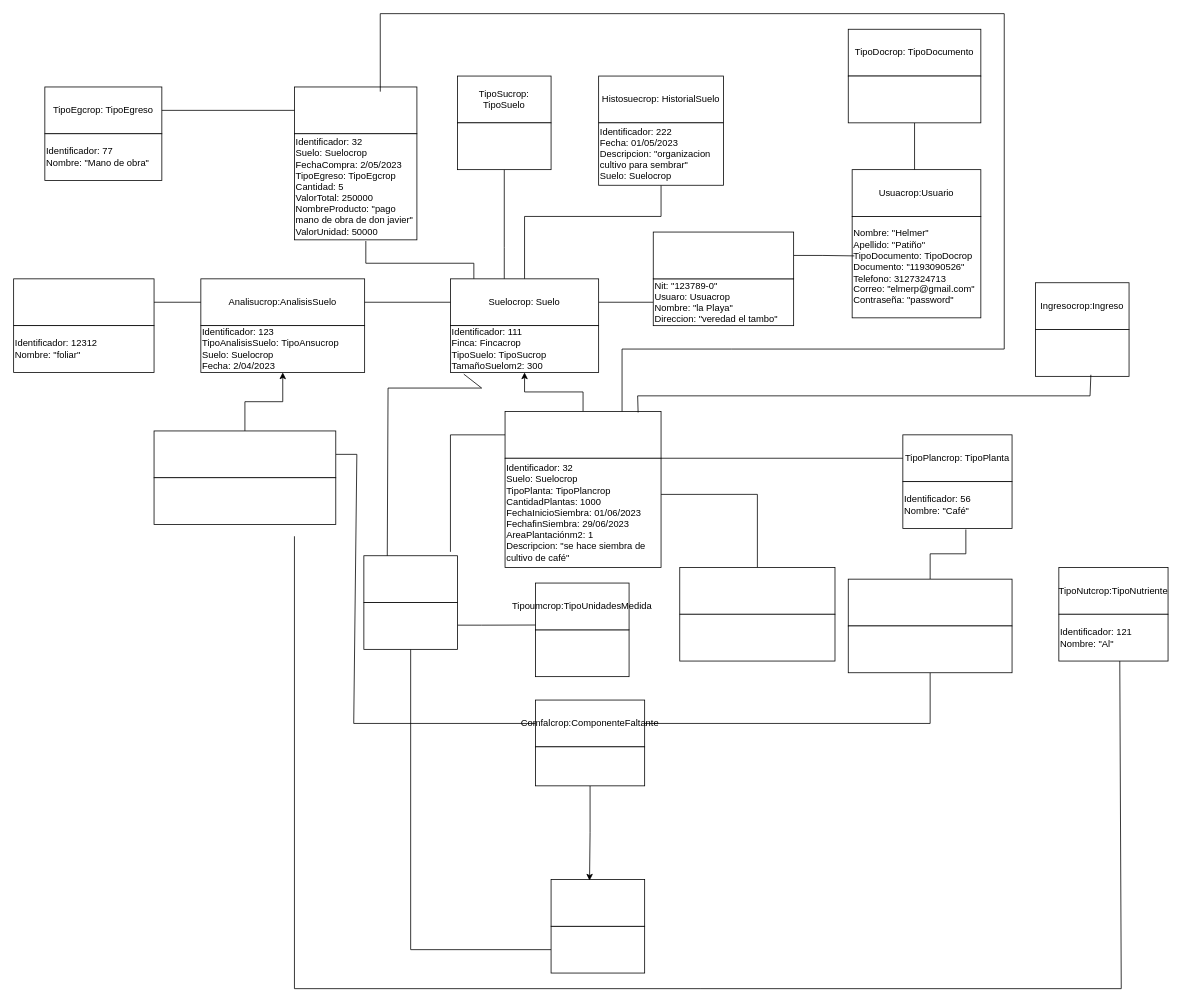
Some shapes in this 1182 by 1003 pixel diagram are drawn without their labels. Here are the shapes that lost their labels. From the top down, the box of each, then its label:
(294, 86, 417, 134): Egresocrop: Egreso
(847, 75, 981, 123): Identificador: 333 Nombre: "Cedula"
(457, 122, 551, 170): Identificador: 555 Nombre: "Arenoso"
(652, 231, 794, 279): Fincacrop:Finca
(13, 278, 154, 326): TipoAnsucrop: TipoAnlisisSuelo
(153, 430, 336, 478): Resulansucrop:ResultadoAnalisisSuelo
(504, 411, 661, 458): Cultivocrop:Cultivo
(363, 555, 457, 603): Umcrop:UnidadesMedida
(679, 567, 835, 614): Histoculcrop:HistorialCultivo
(847, 578, 1012, 626): Comnutrcrop : ComponenteNutricional
(550, 879, 645, 926): Recomecrop:Recomendación
